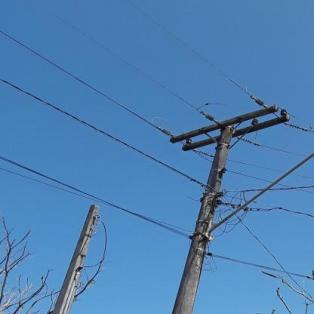Poste: (97, 108, 251, 314)
